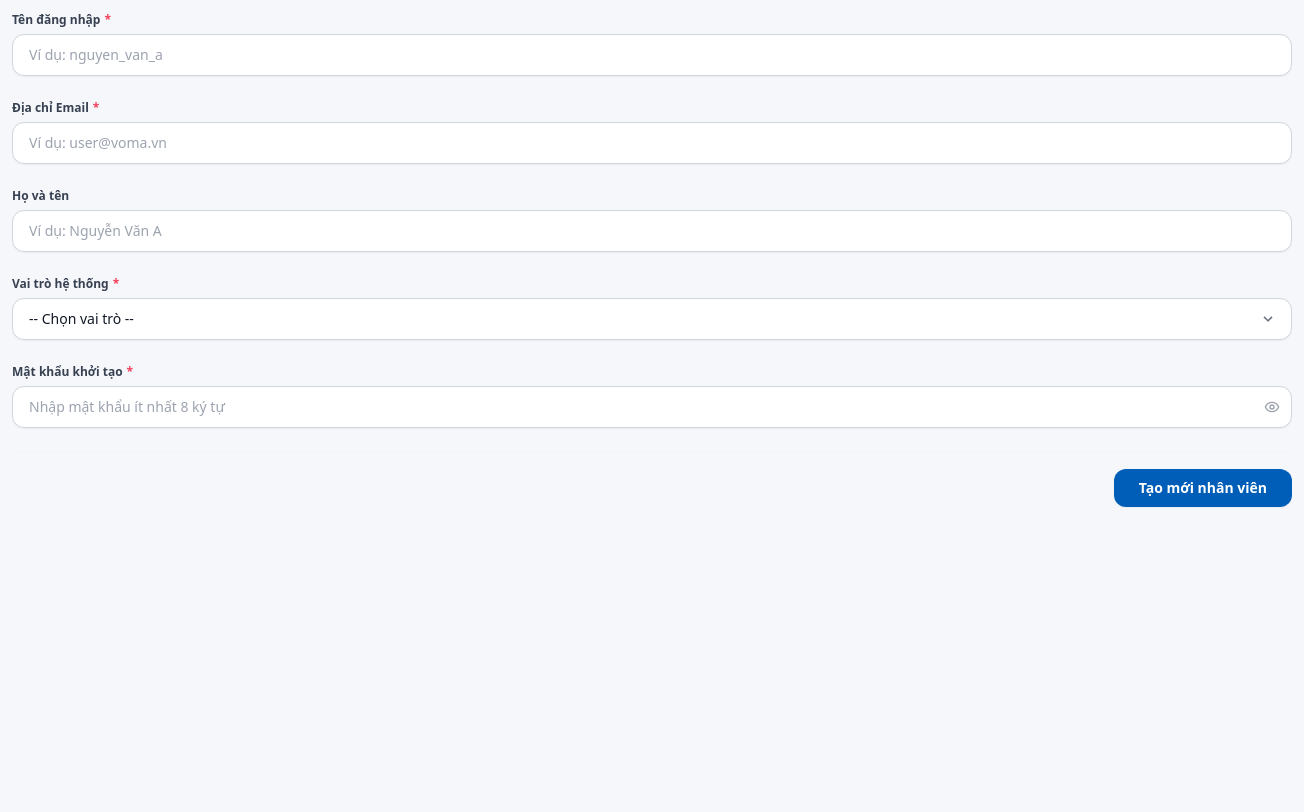
it: validates required fields in create mode
Click the button "Tạo mới nhân viên" at (1203, 488), box [1114,469,1292,507]
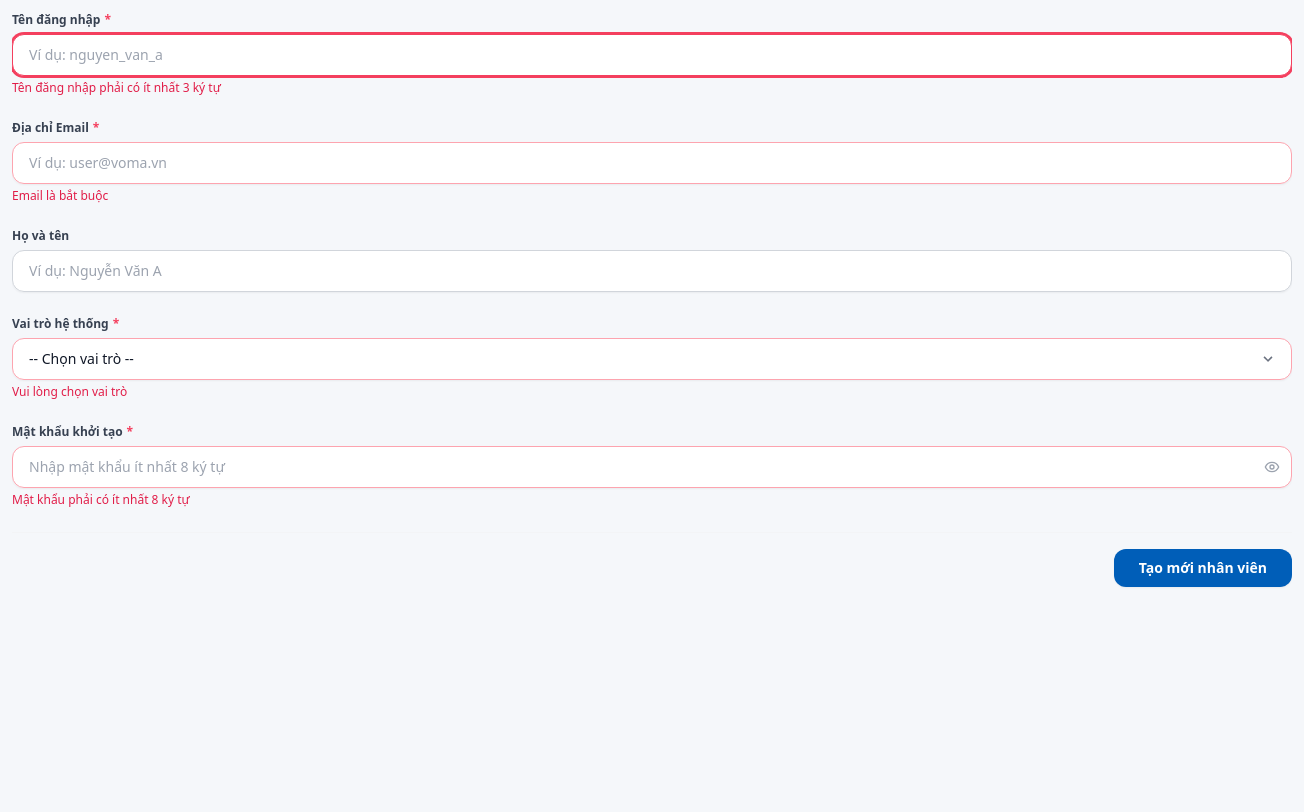
Expected: the text "Tên đăng nhập phải có ít nhất 3 ký tự" is shown, [12,79,221,96]
Expected: the text "Email là bắt buộc" is shown, [12,187,108,204]
Expected: the text "Vui lòng chọn vai trò" is shown, [12,383,127,400]
